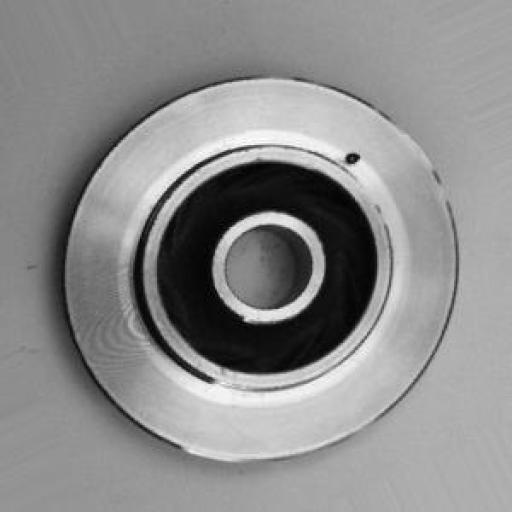defect: (335, 138, 368, 180)
